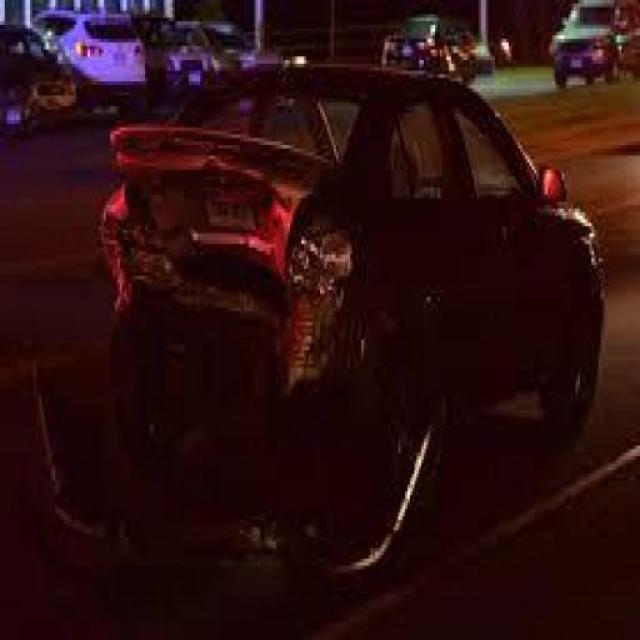crush: (114, 121, 357, 416)
